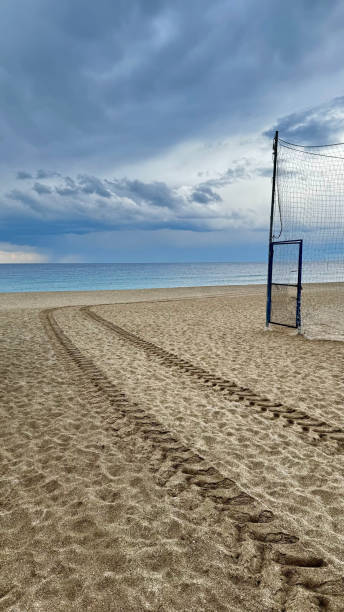vehicle_track: (41, 309, 343, 611), (81, 306, 343, 453)
